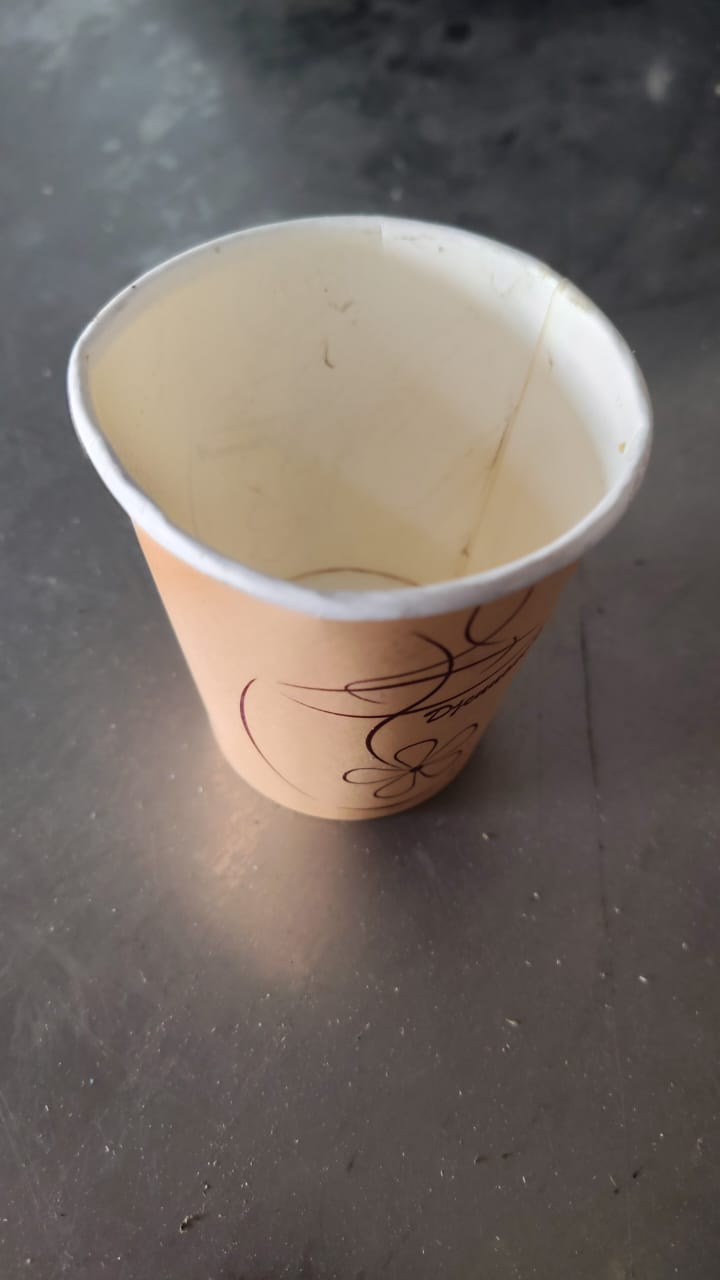Carton: (66, 216, 657, 821)
